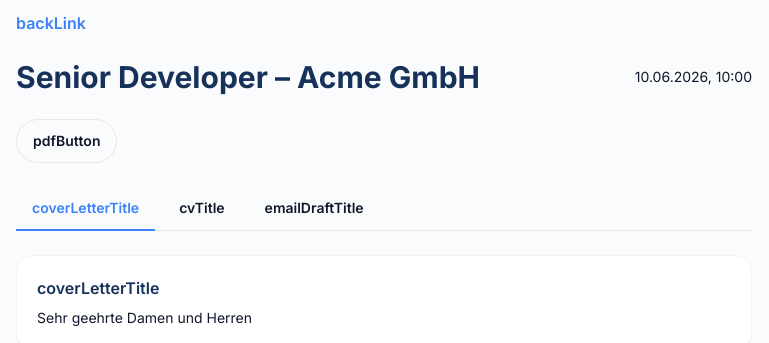
Test case: ApplicationHistoryDetail › zeigt nach Klick auf den Lebenslauf-Tab nur den Lebenslauf an
Expected: the heading "Senior Developer – Acme GmbH" is shown, [16, 59, 480, 95]
Click the tab "cvTitle" at [202, 209], box [163, 187, 241, 231]
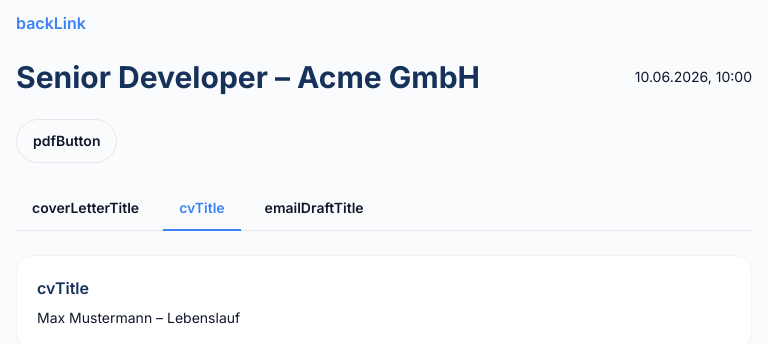
Result: the text "Max Mustermann – Lebenslauf" is shown at [37, 309, 240, 326]
Result: the text "Sehr geehrte Damen und Herren" is gone
